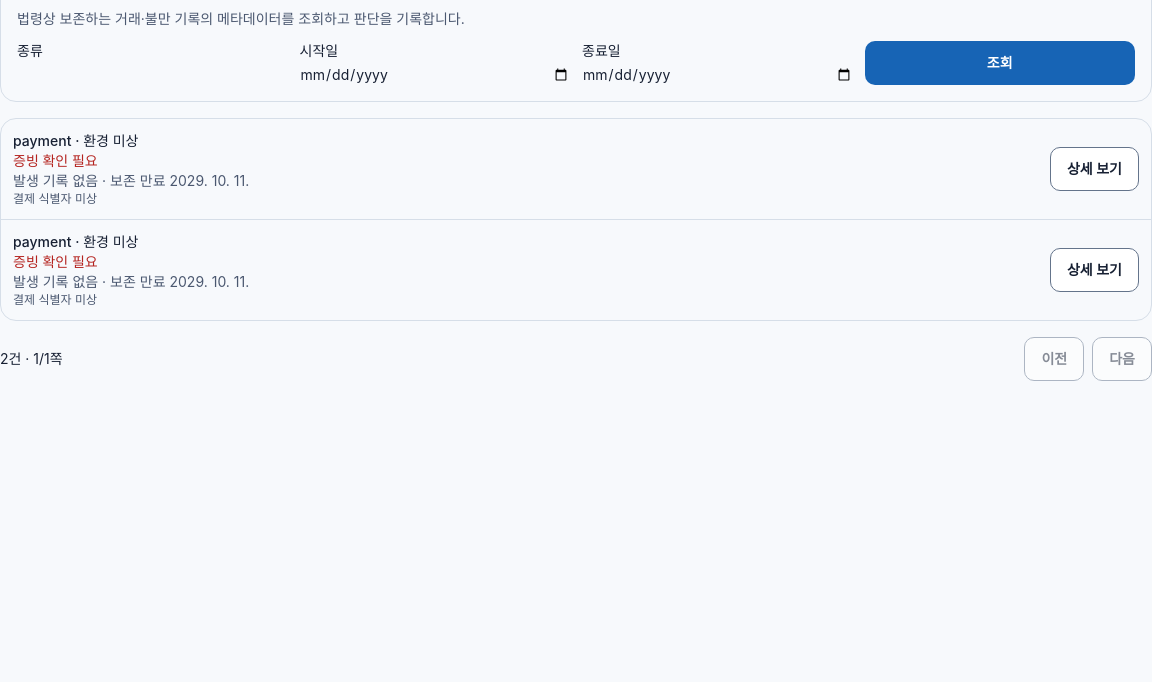
Test: AdminRetainedTransactionsTab › keeps a newer selection when an older decision response arrives
This screenshot has width=1152, height=682.
Click the 1st button "상세 보기" at (1094, 169), box top-left (1050, 147), bottom-right (1139, 191)
(page scrolled)
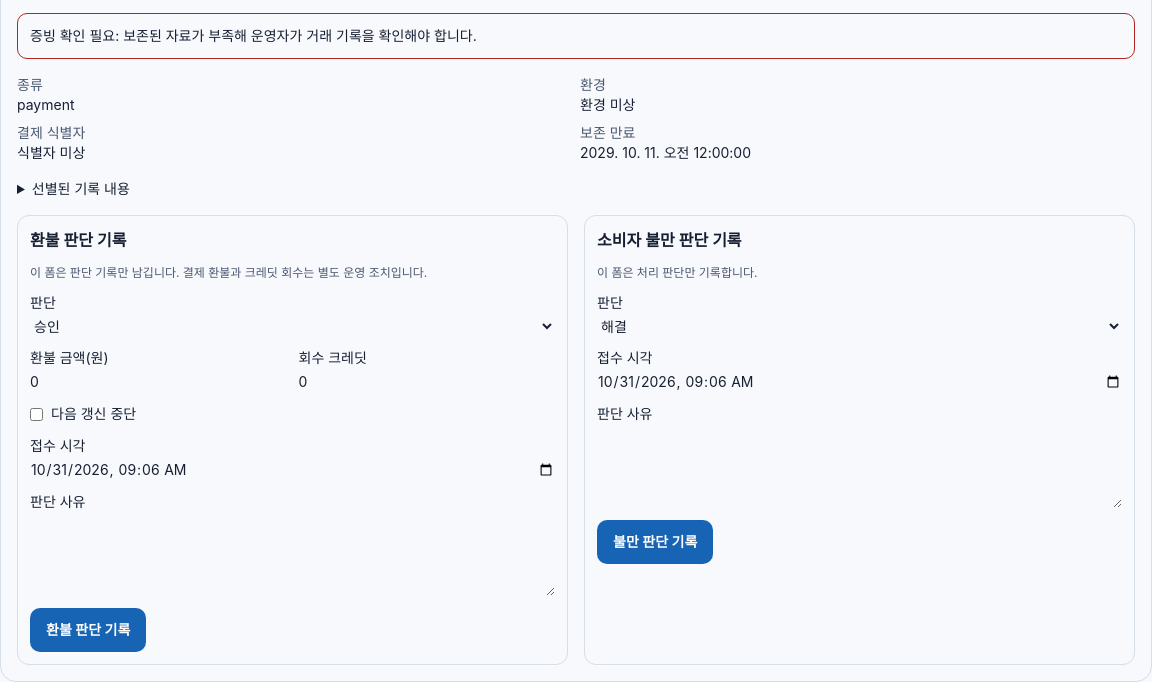
Expected: the button "환불 판단 기록" is shown, top-left (30, 608), bottom-right (146, 652)
Replace the text in the number field labelled "환불 금액(원)" with "1200" at (158, 382), box top-left (30, 372), bottom-right (286, 392)
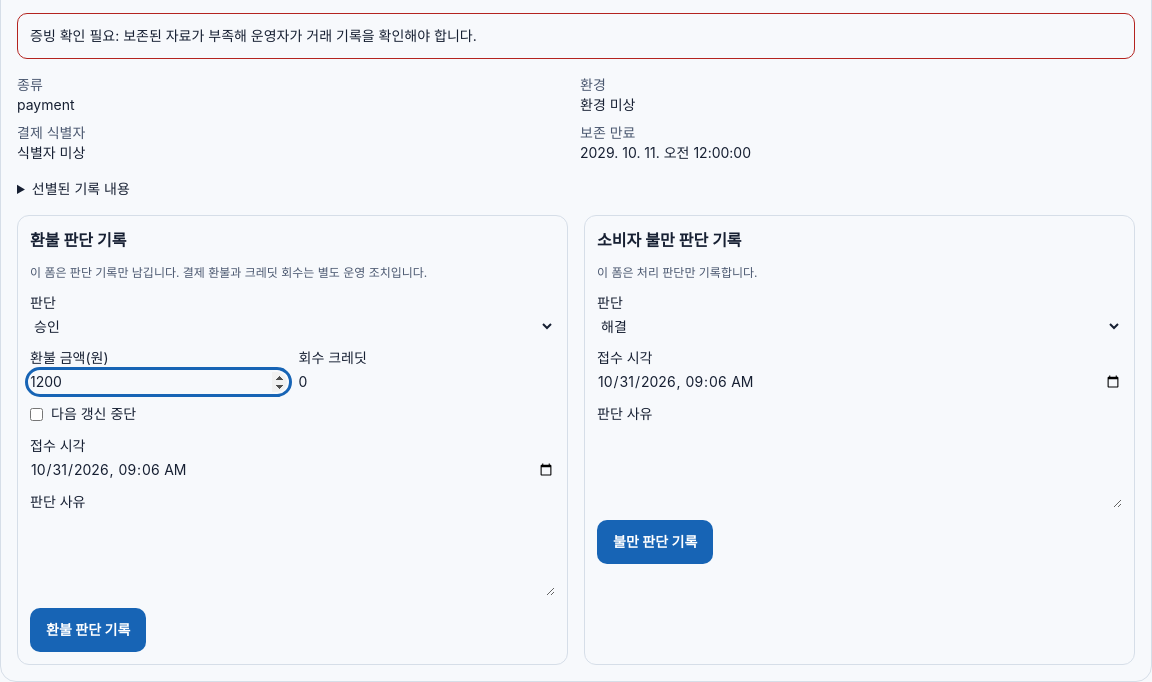
Type "첫 거래 판단" into the text box labelled "판단 사유" below "다음 갱신 중단" at (292, 556), box top-left (30, 516), bottom-right (555, 596)
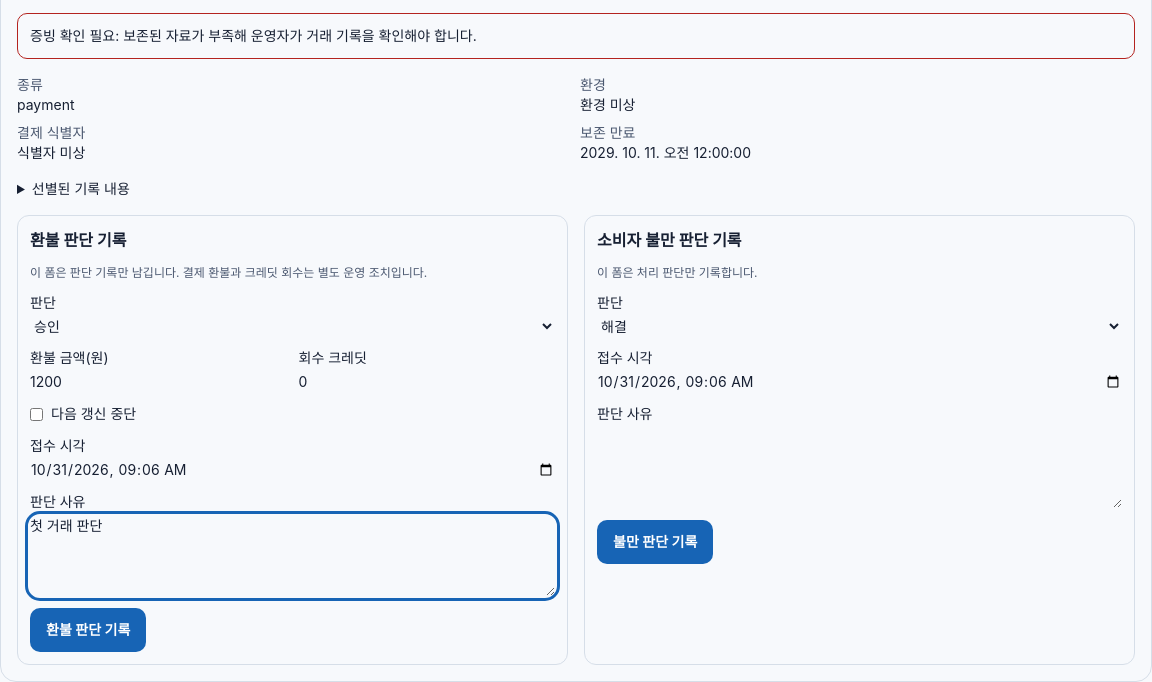
Click the button "환불 판단 기록" at (88, 630), box top-left (30, 608), bottom-right (146, 652)
(page scrolled)
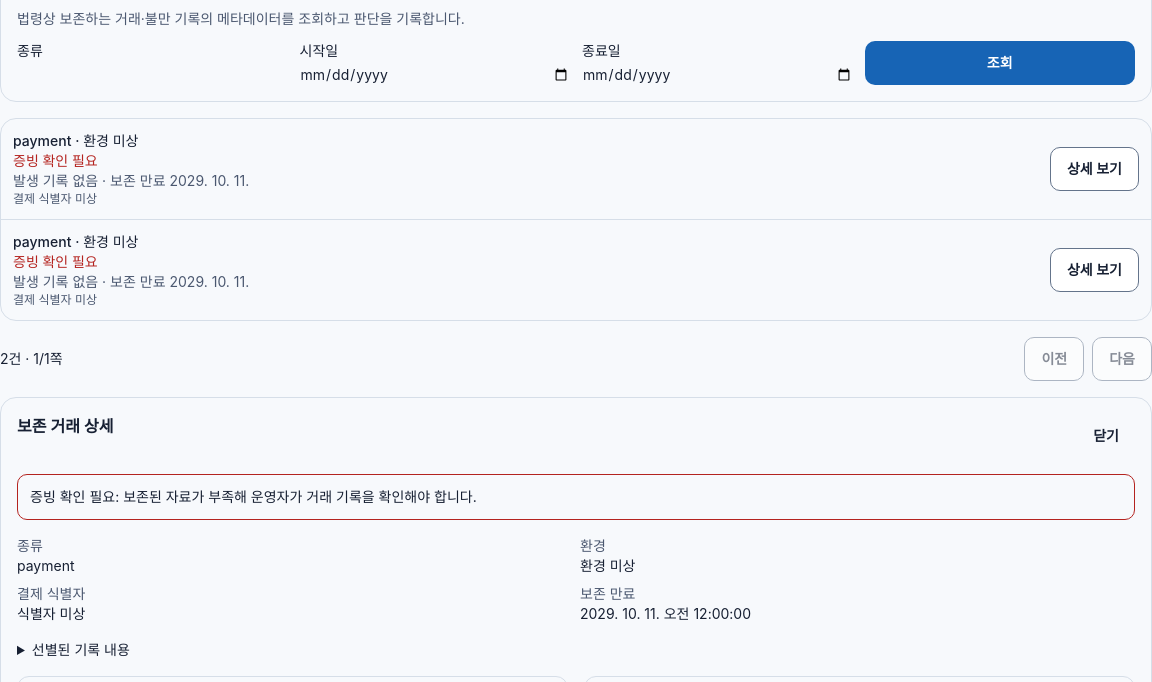
Click the 2nd button "상세 보기" at (1094, 270), box top-left (1050, 248), bottom-right (1139, 292)
(page scrolled)
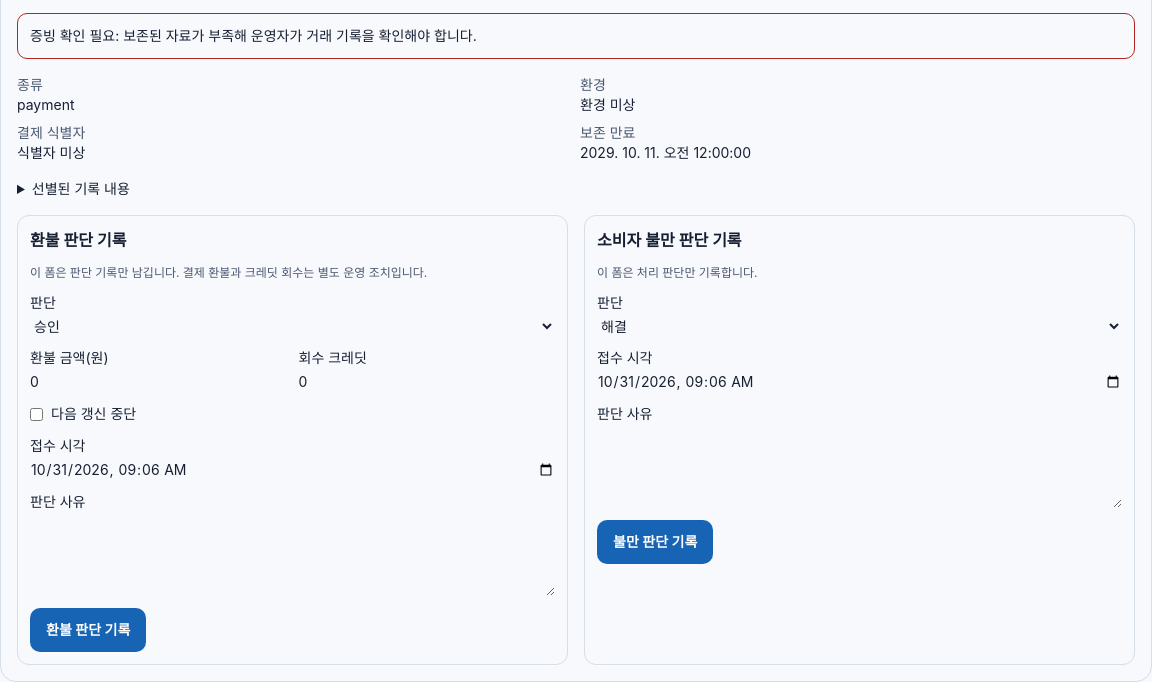
Expected: the number field labelled "환불 금액(원)" holds "0", top-left (30, 372), bottom-right (286, 392)
